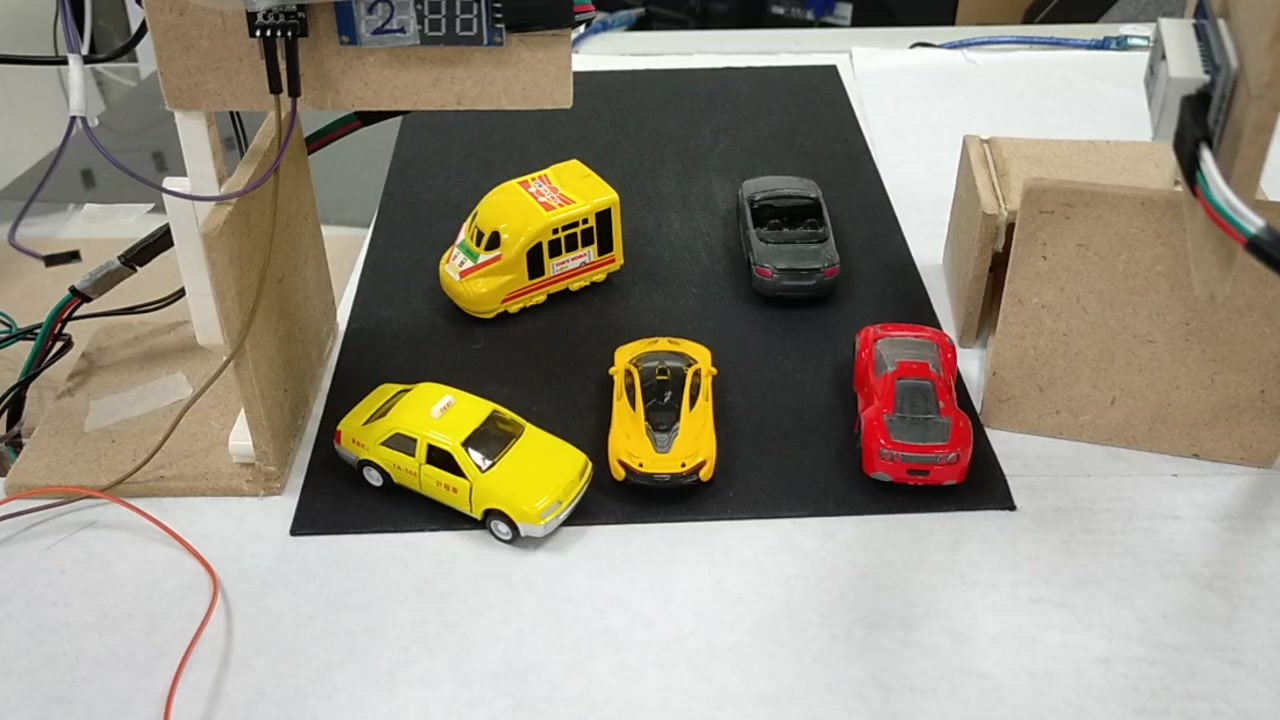car: (345, 376, 586, 538), (848, 323, 977, 495), (603, 333, 715, 486), (740, 175, 841, 297)
